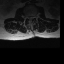CCS_normal: (29, 14, 31, 22)
LFS_stenosis: (33, 14, 35, 20)
LLS_normal: (31, 14, 33, 21)
RFS_stenosis: (26, 14, 28, 20)
RLS_normal: (27, 14, 29, 21)
